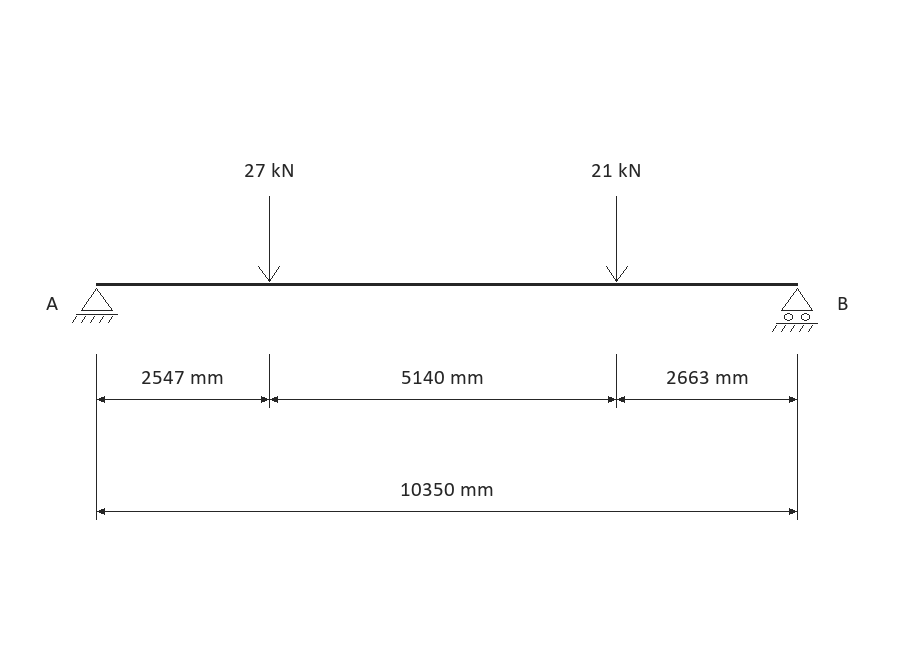pin_support: (72, 288, 118, 323)
point_load: (258, 196, 280, 282), (606, 196, 628, 282)
roller_support: (772, 288, 818, 332)
